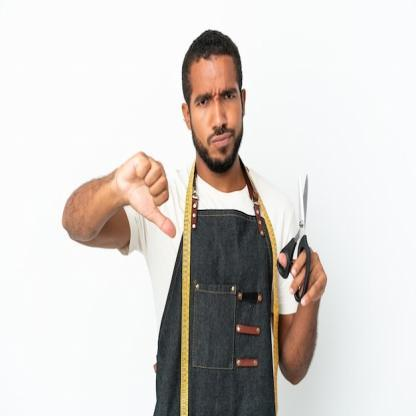thumb_down: (116, 146, 178, 244)
